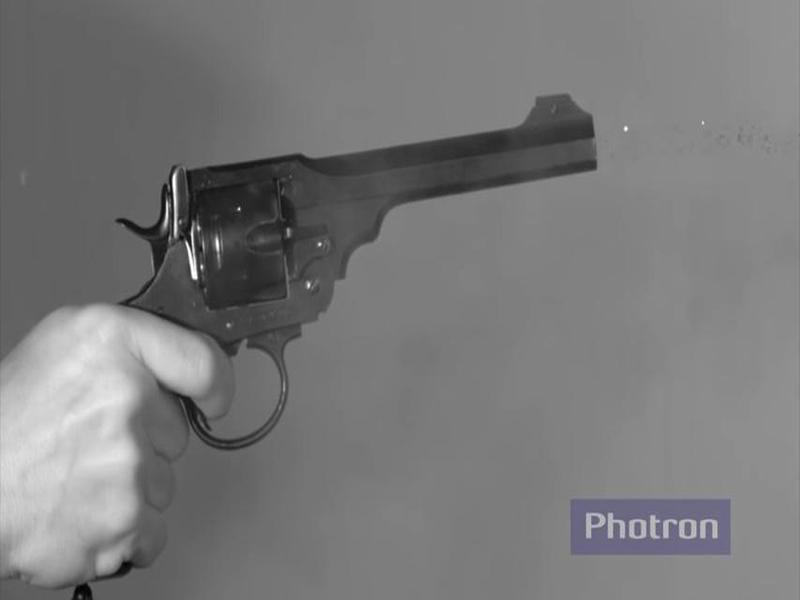Revolver: (78, 70, 627, 466)
